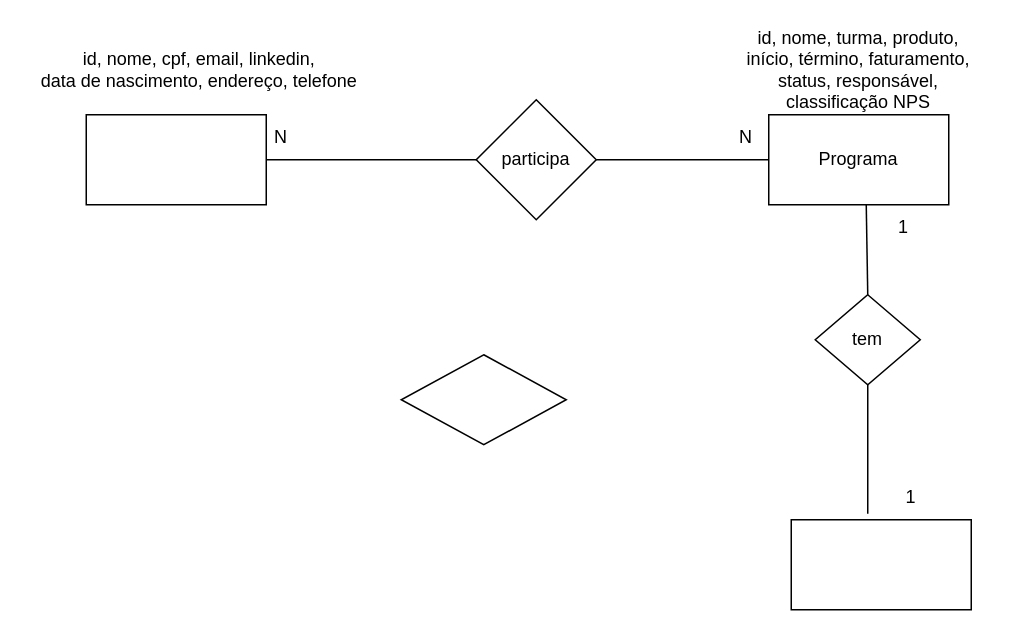
The diagram is 1011 pixels wide and 636 high, and some of its shapes have lost their labels. Here are the shapes that lost their labels. From the top down, the box of each, then its label:
(85, 113, 266, 205): Pessoa
(790, 518, 971, 610): Matrícula
